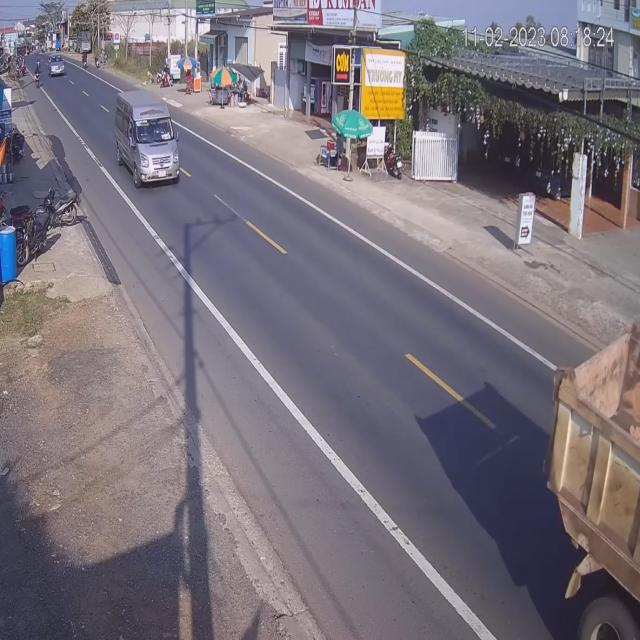bus: (116, 93, 182, 189)
car: (50, 55, 66, 78)
motorbike: (34, 60, 41, 86)
truck: (547, 320, 640, 640)
